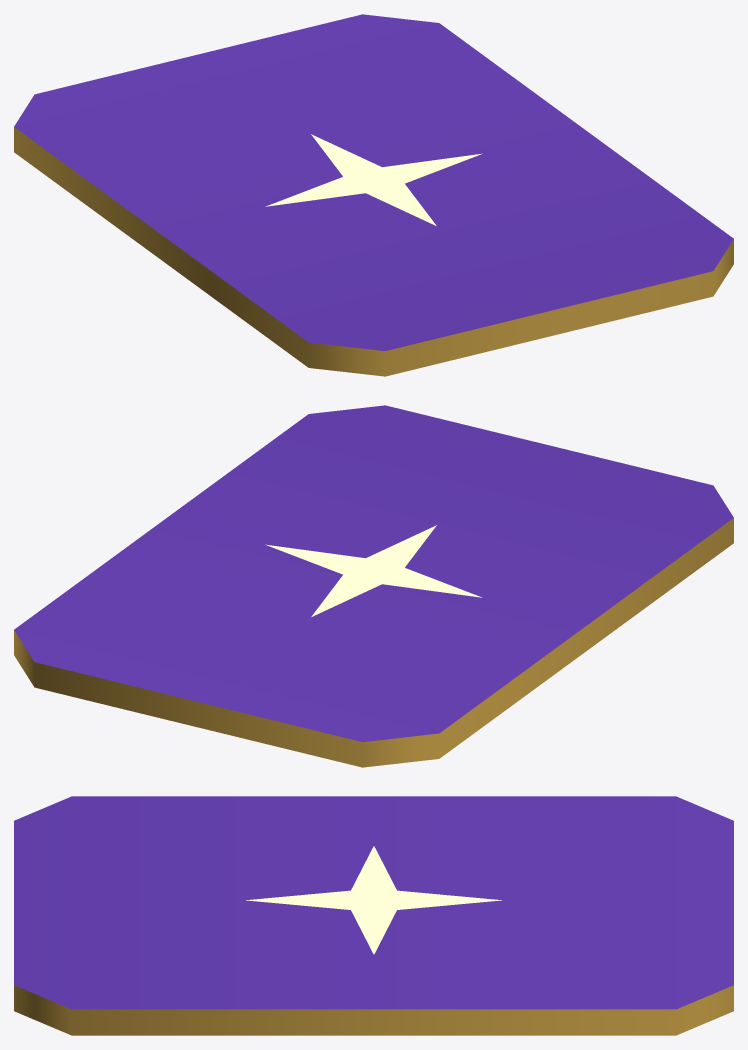
File: projectile-card.glb
3 views of the same model, one above another, from view 1: azimuth 30°, elevation 25°; view 2: azimuth 150°, elevation 25°; view 3: azimuth 270°, elevation 25° (orthographic). The views are drawn at different scales.
Parts seen in each view (by area): view 1: card; view 2: card; view 3: card.
Boxes of the visible parts, <box> form: card: <box>14,14,733,376</box>; card: <box>14,405,733,767</box>; card: <box>14,796,733,1035</box>.
Bounding box in the file's own units: 0.105 × 0.0072 × 0.15.
